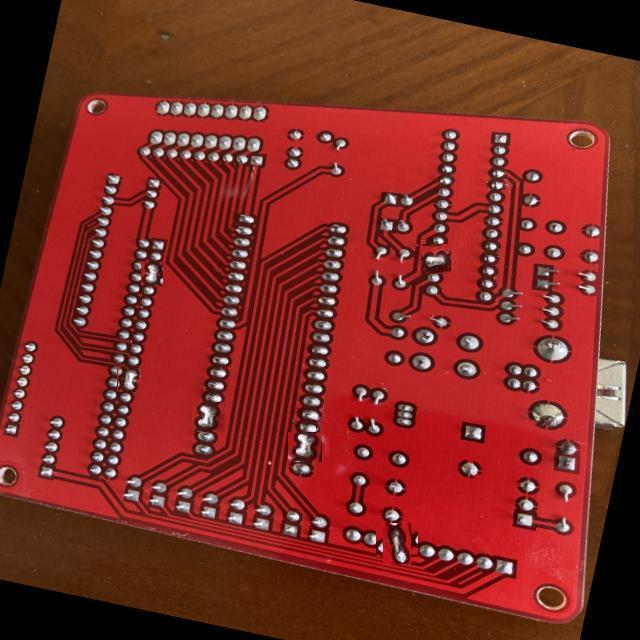damged: (380, 526, 415, 560), (288, 432, 322, 462), (192, 402, 225, 432), (422, 245, 451, 274), (140, 260, 163, 286), (117, 367, 139, 392)
